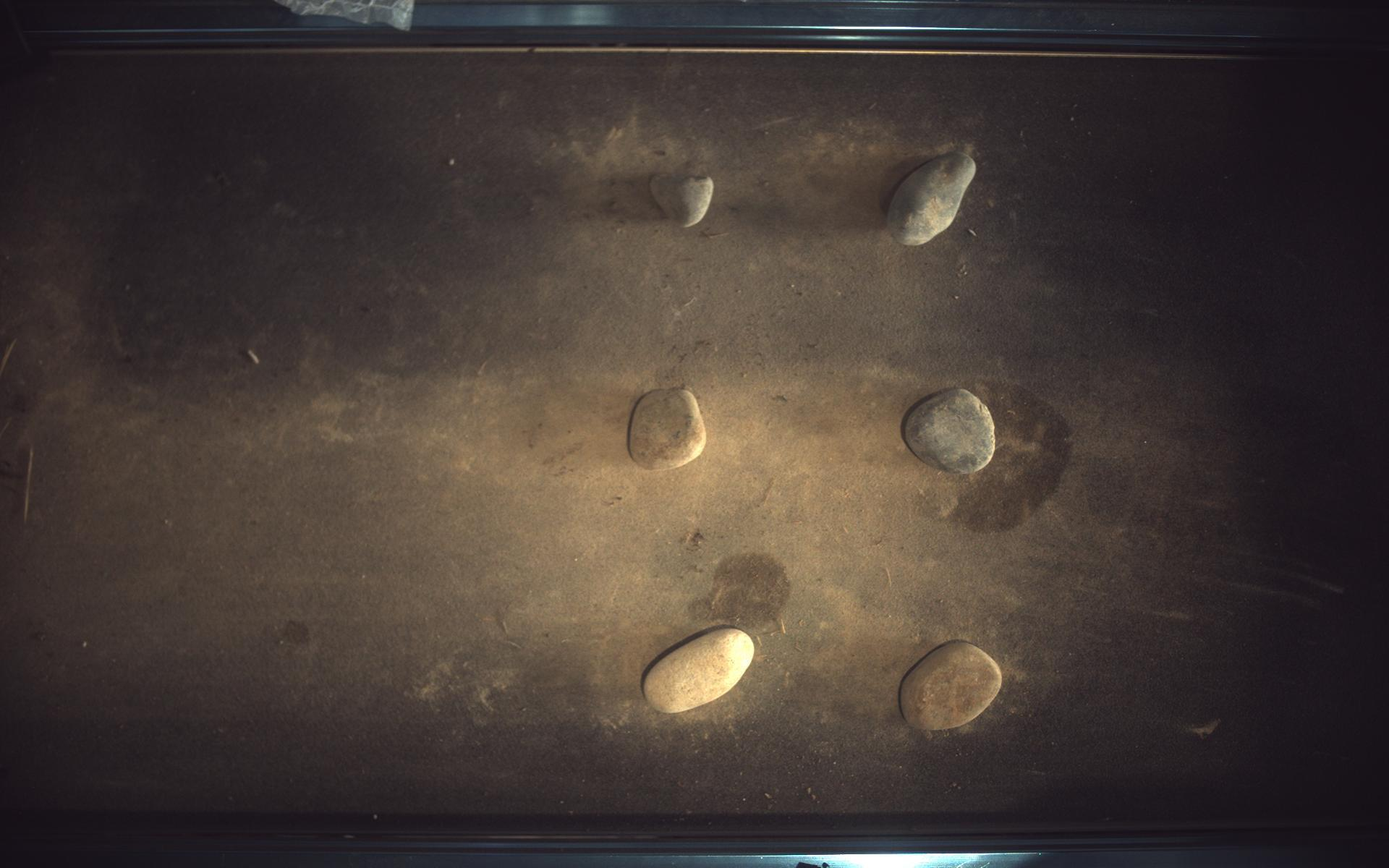stone: (644, 629, 755, 714), (901, 642, 1004, 731), (888, 151, 978, 244), (906, 388, 997, 475), (629, 389, 707, 470), (651, 175, 715, 226)
